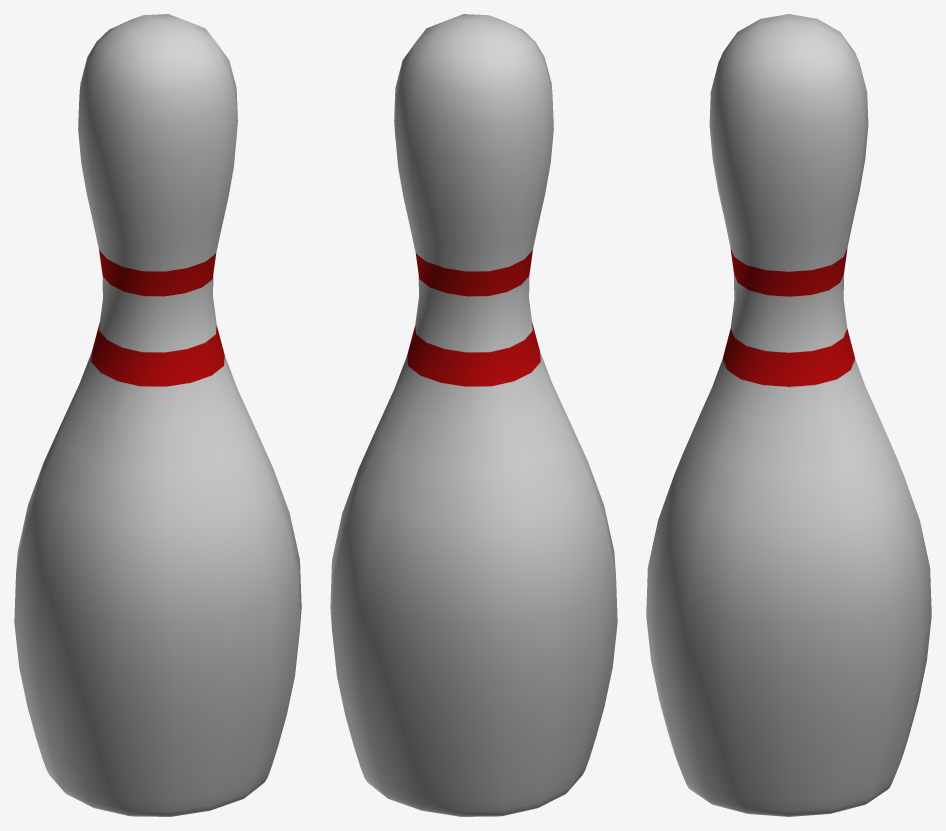
Rendered from pino.gltf.
3 views of the same model, side by side, from view 1: azimuth 30°, elevation 25°; view 2: azimuth 150°, elevation 25°; view 3: azimuth 270°, elevation 25° (orthographic).
Parts seen in each view (by area): view 1: pin; view 2: pin; view 3: pin.
Part boxes in pixels (x1,y1,x2,y2): pin: (14,14,301,816); pin: (330,14,617,816); pin: (646,14,931,816).
Size of the model in its own units: 0.159 by 0.4634 by 0.159.
1 material, 1 textured.
